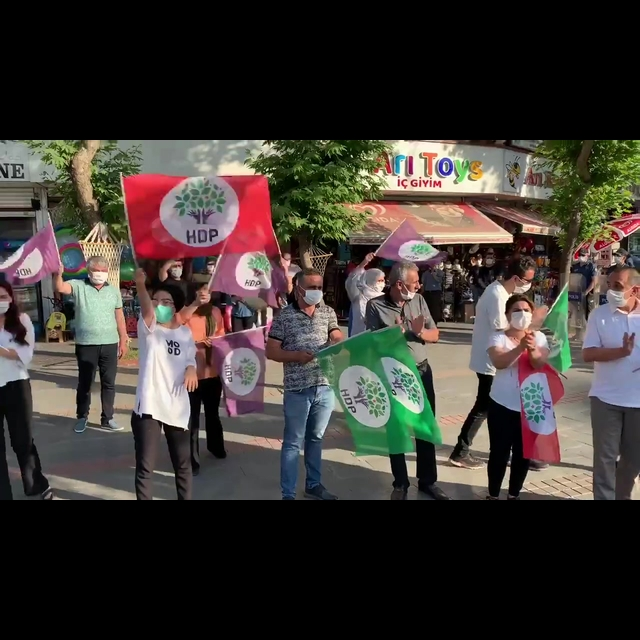HDP: (168, 178, 232, 225), (353, 369, 390, 424), (242, 243, 274, 278), (236, 352, 258, 392)
